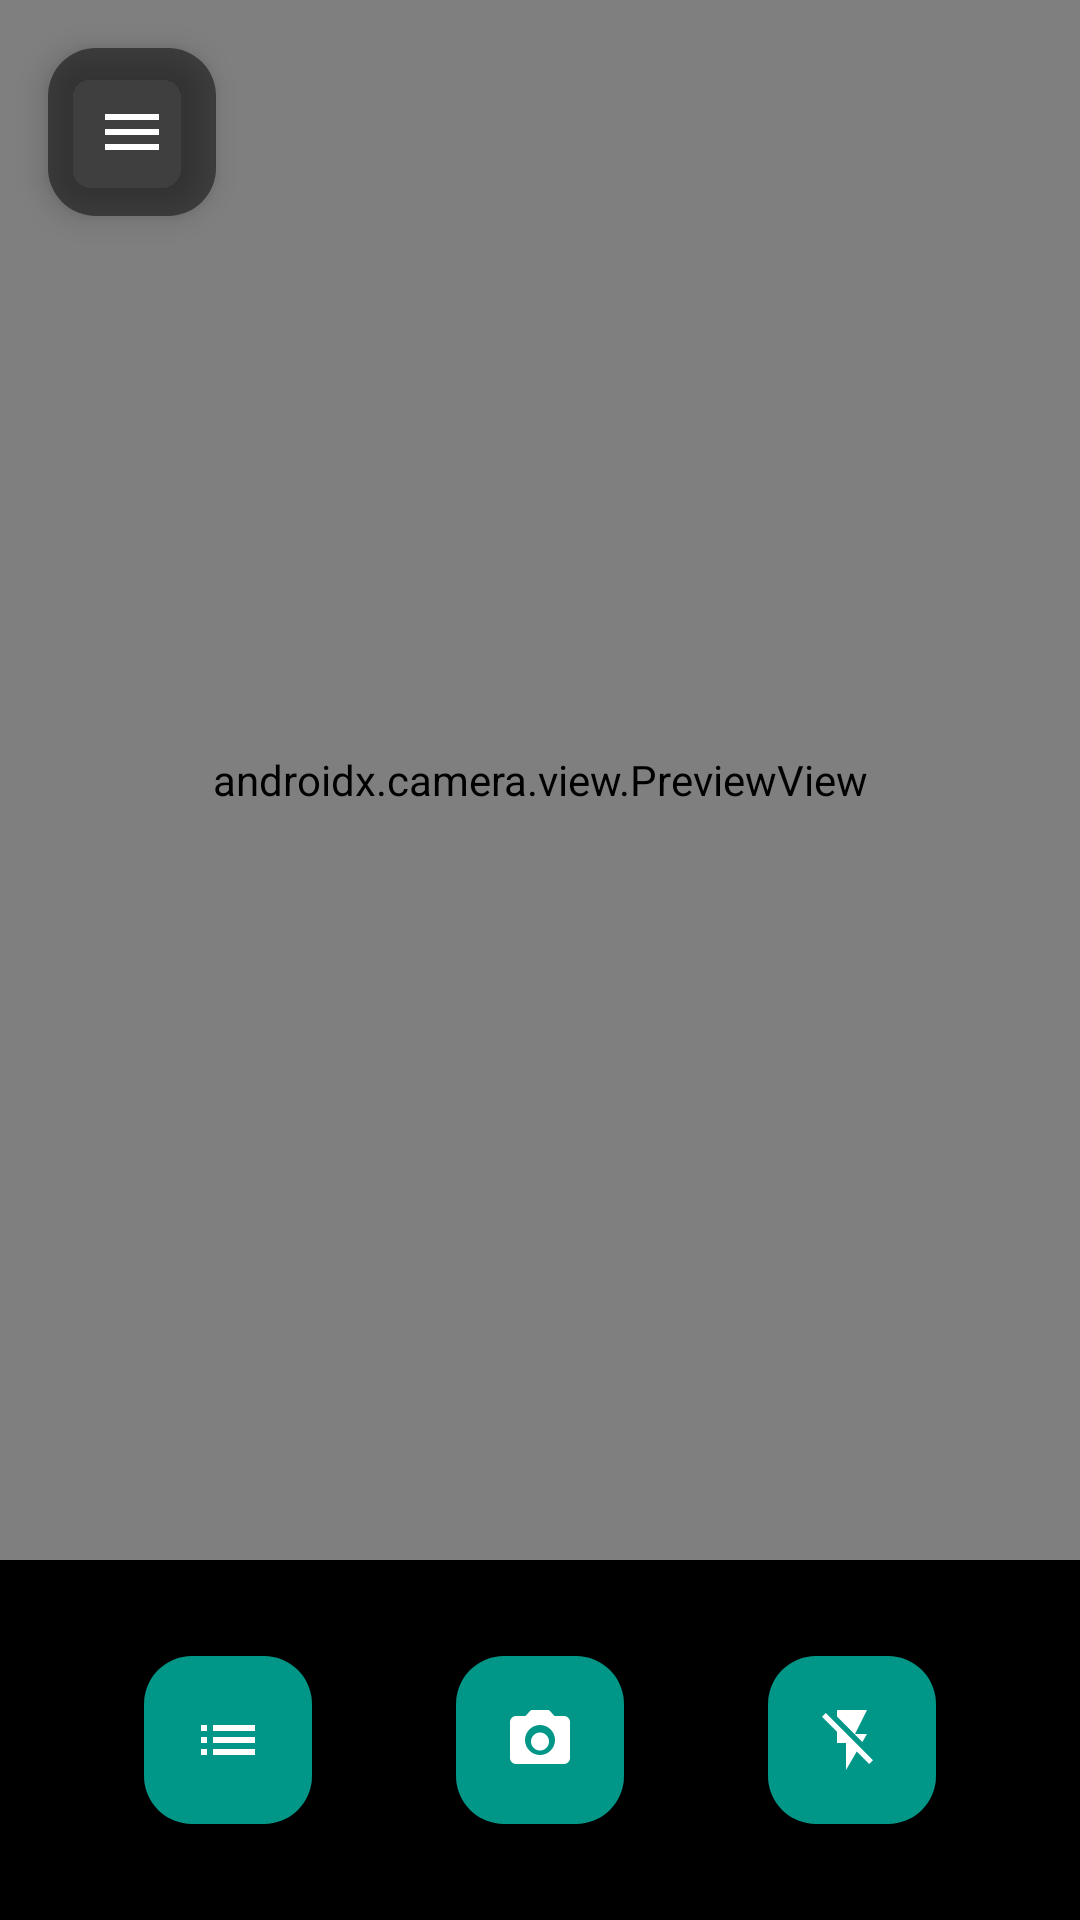

Icons on this 1080×1920 Android screen, each with its box as (x1, y1, x2, y2):
Capture Photo: (456, 1656, 624, 1824)
menu: (48, 48, 216, 216)
Readings List: (144, 1656, 312, 1824)
Toggle Flash: (768, 1656, 936, 1824)
